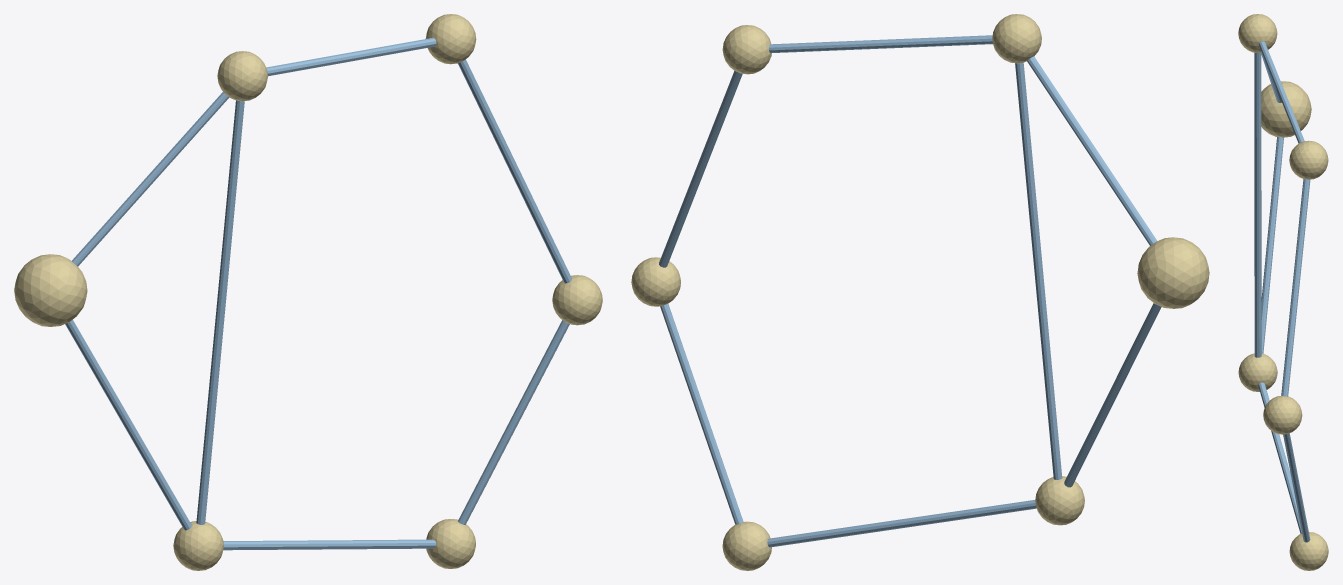
Rendered from libra.glb.
The picture shows the model from 3 angles, left to right: view 1: azimuth 30°, elevation 25°; view 2: azimuth 150°, elevation 25°; view 3: azimuth 270°, elevation 25°; orthographic projection. The views are drawn at different scales.
Parts seen in each view (by area): view 1: world; view 2: world; view 3: world.
Boxes of the visible parts, x1,y1,x2,y2 form: world: (14, 14, 602, 570); world: (631, 14, 1209, 570); world: (1238, 14, 1328, 570).
Bounding box in the file's own units: 2.64 × 2.6 × 0.4614.
